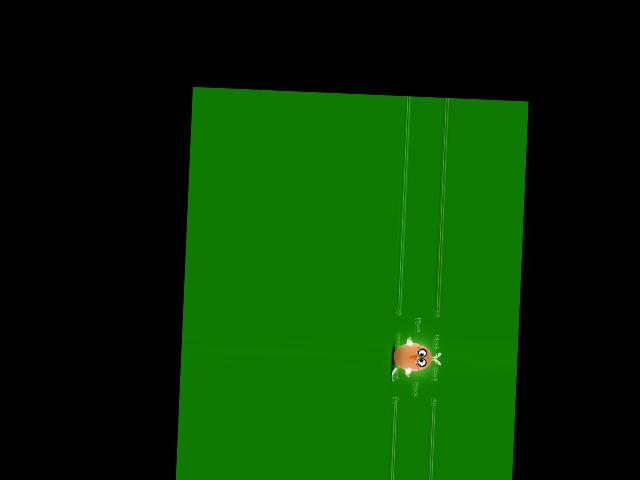egg: (392, 342, 432, 372)
